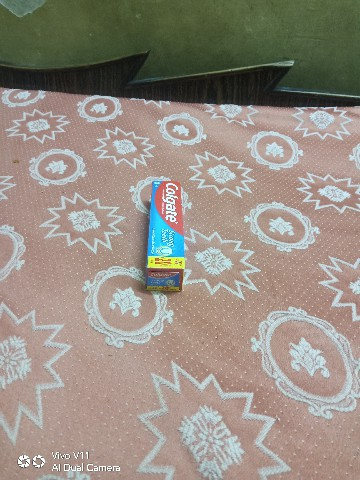colgatetoothpaste small: (132, 172, 202, 301)
